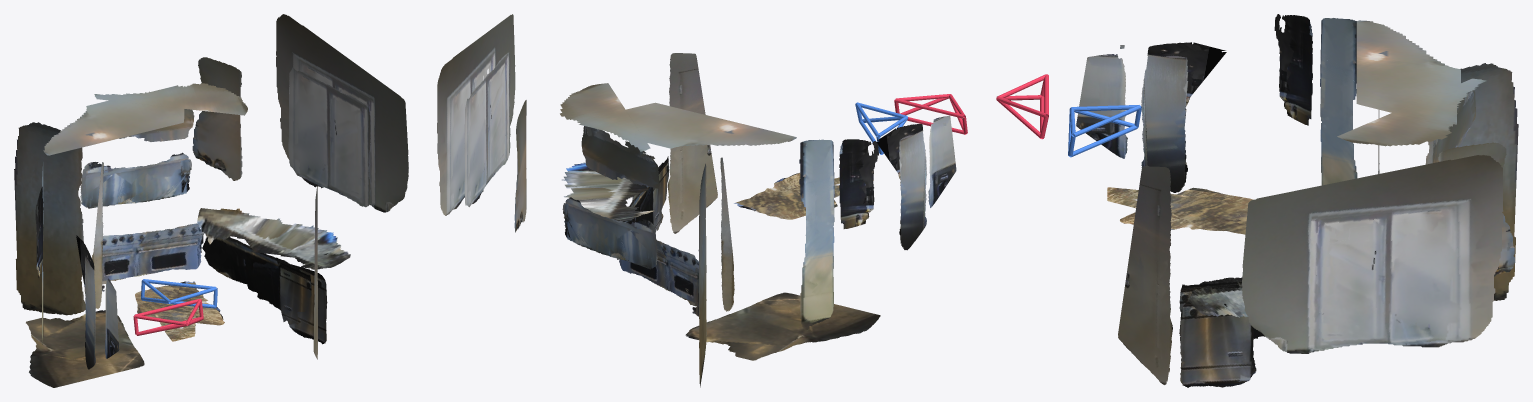
File: pred.glb
3 renders of one model, left to right at view 1: azimuth 30°, elevation 25°; view 2: azimuth 150°, elevation 25°; view 3: azimuth 270°, elevation 25°, orthographic. The views are drawn at different scales.
Parts seen in each view (by area): view 1: Node; view 2: Node; view 3: Node.
Part boxes in pixels (left/top/right/bottom): Node: left=14, top=14, right=408, bottom=387; Node: left=437, top=14, right=967, bottom=387; Node: left=996, top=14, right=1518, bottom=387.
Bounding box in the file's own units: 4.48 × 2.82 × 4.43.
27 materials, 25 textured.
